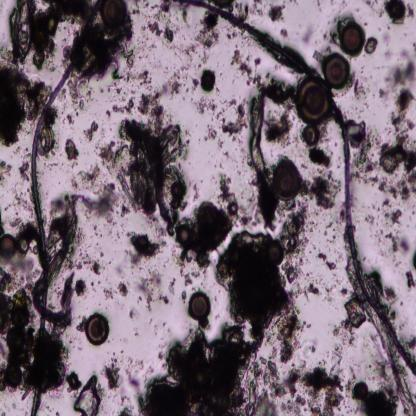Background material: (102, 101, 192, 235), (143, 323, 265, 415), (1, 0, 136, 83), (219, 230, 307, 354), (0, 267, 65, 394), (184, 172, 244, 278), (265, 342, 343, 416), (38, 196, 79, 327), (0, 63, 45, 143), (381, 90, 416, 174), (365, 200, 409, 260), (281, 206, 311, 282), (348, 119, 381, 186), (75, 184, 120, 226), (352, 378, 400, 415), (166, 42, 196, 99), (250, 74, 299, 108), (252, 177, 282, 231), (126, 231, 168, 266), (336, 293, 366, 339), (138, 272, 176, 306), (72, 373, 102, 415), (309, 173, 342, 210), (124, 351, 147, 401), (138, 88, 166, 128), (264, 113, 294, 148), (376, 174, 416, 199), (68, 77, 94, 115), (111, 62, 152, 86), (101, 351, 124, 393), (196, 12, 221, 50), (221, 100, 247, 136), (388, 60, 416, 92), (383, 0, 416, 26), (15, 222, 38, 256), (7, 195, 32, 226), (39, 117, 58, 157), (320, 13, 342, 47), (145, 21, 176, 45), (230, 48, 252, 76), (75, 164, 101, 187), (307, 146, 333, 168), (197, 66, 217, 92), (195, 94, 218, 116), (288, 284, 323, 298), (64, 369, 82, 394), (109, 98, 134, 115), (317, 218, 336, 240), (317, 250, 336, 272), (151, 1, 172, 20), (353, 76, 369, 100), (64, 136, 80, 160), (79, 258, 103, 274), (81, 120, 99, 141), (299, 23, 315, 46), (18, 158, 30, 183), (202, 124, 218, 142), (127, 303, 143, 321), (363, 34, 377, 54), (270, 6, 285, 23), (116, 280, 130, 298), (0, 161, 10, 186), (376, 84, 388, 102), (275, 27, 290, 41), (406, 269, 416, 290), (118, 402, 134, 415), (382, 287, 396, 300), (220, 142, 232, 157), (43, 162, 60, 172), (102, 287, 113, 301), (339, 285, 348, 299), (410, 252, 416, 271), (254, 57, 262, 68)
Cellulose filter fibre: (345, 302, 416, 414), (246, 92, 274, 202)
Diatom: (295, 77, 331, 125), (323, 52, 351, 88), (274, 161, 300, 199), (340, 20, 366, 57), (85, 311, 110, 345), (188, 292, 210, 323), (300, 123, 330, 143), (264, 239, 284, 266), (0, 233, 17, 259), (176, 223, 191, 248), (171, 180, 186, 200)
Microfibre: (185, 0, 416, 374), (30, 0, 102, 413)
